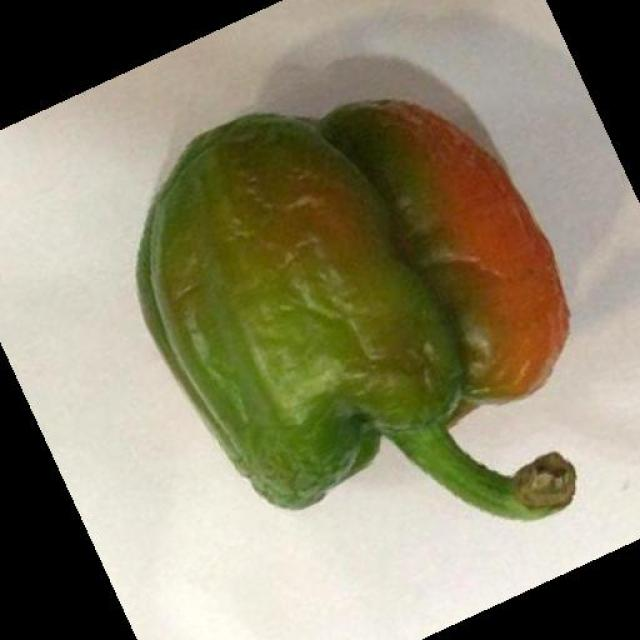Stale_Capsicum: (150, 98, 573, 490)
